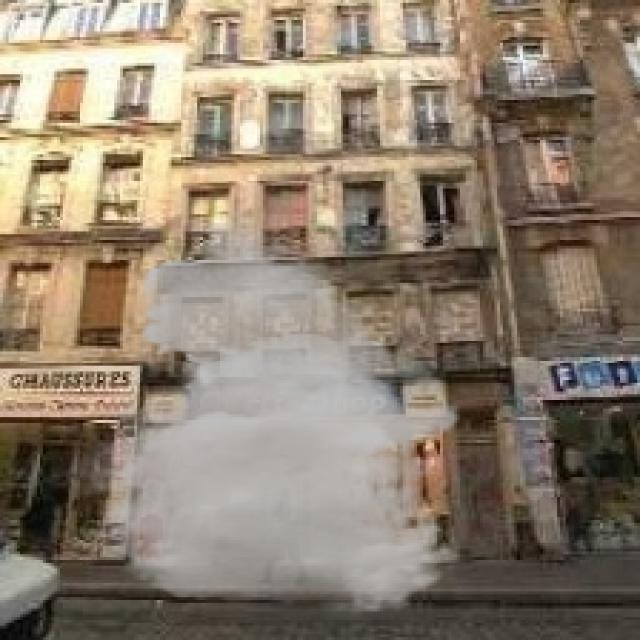Smoke: (51, 208, 463, 614)
